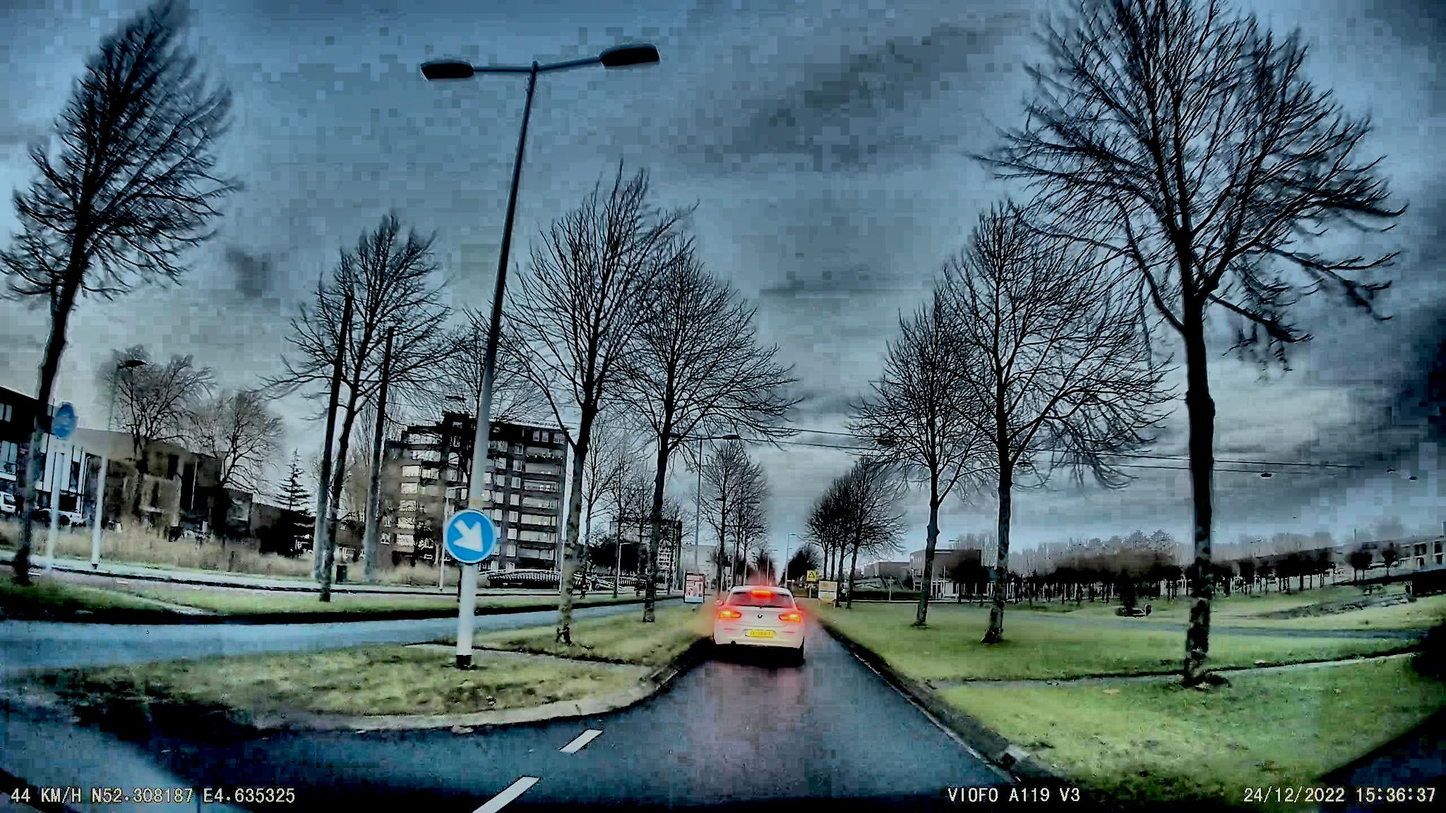Roads: (0, 624, 1107, 813)
